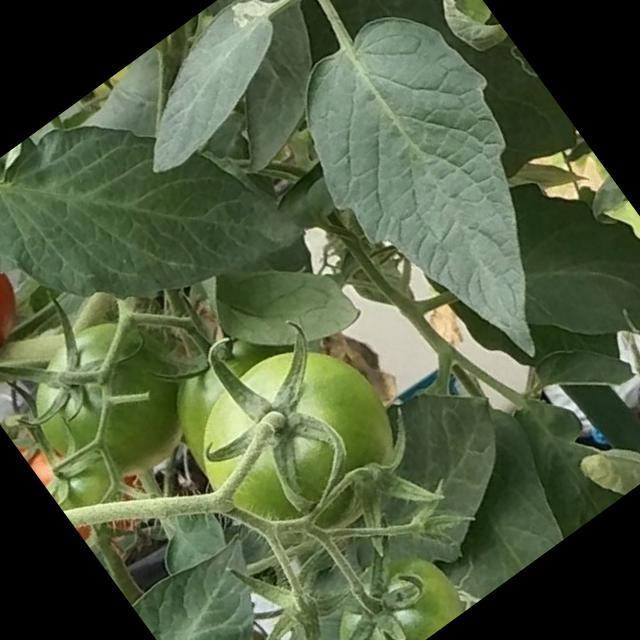Tomato target spot leaf: (100, 0, 313, 178)
